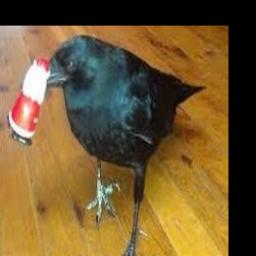Crow: (32, 34, 207, 256)
